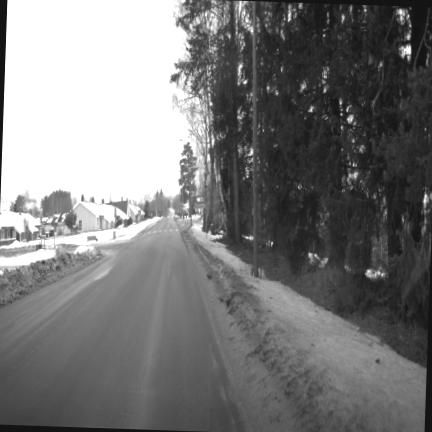Road: (0, 219, 237, 430)
